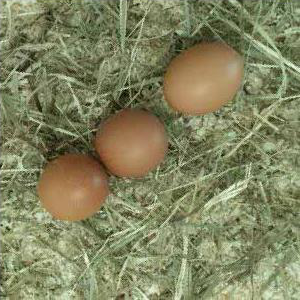egg: (163, 43, 247, 115), (96, 109, 168, 176), (38, 154, 109, 220)
